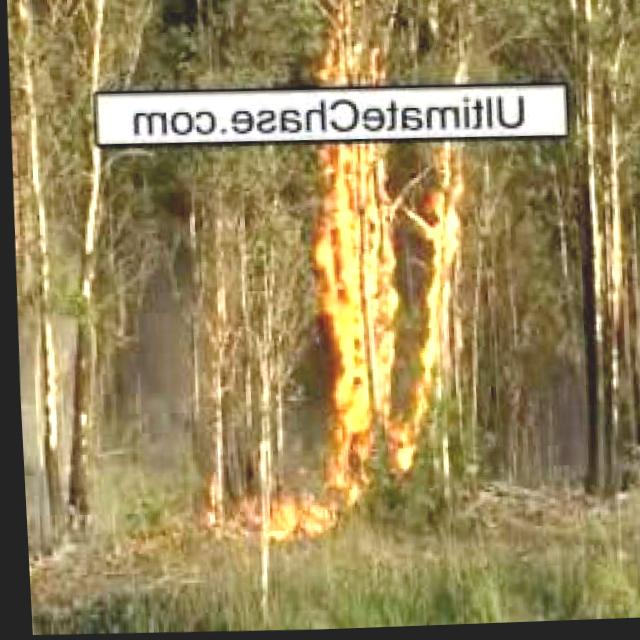helmet: (304, 141, 469, 493), (238, 467, 358, 545), (312, 0, 388, 90), (231, 500, 344, 545)
